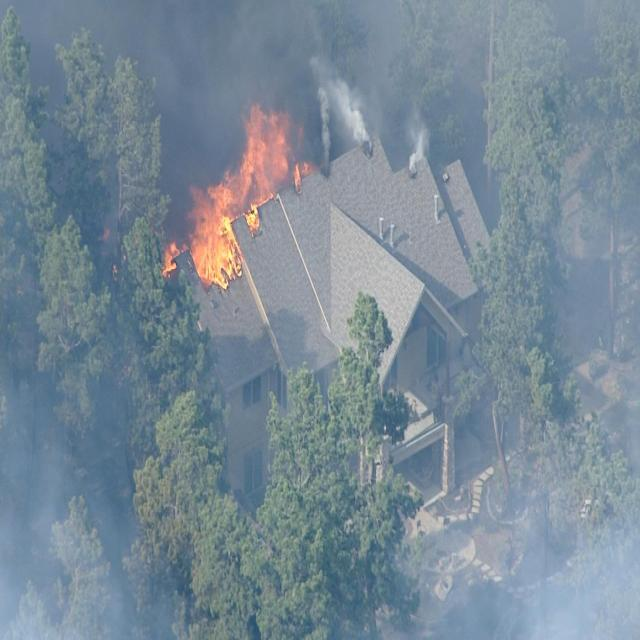fire: (189, 118, 286, 288)
smoke: (2, 386, 156, 640), (426, 516, 640, 640), (153, 2, 403, 107)
